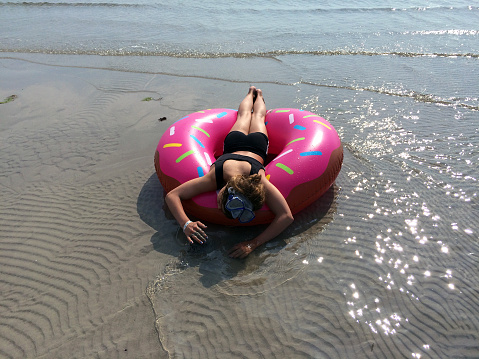deitado: (150, 90, 316, 243)
